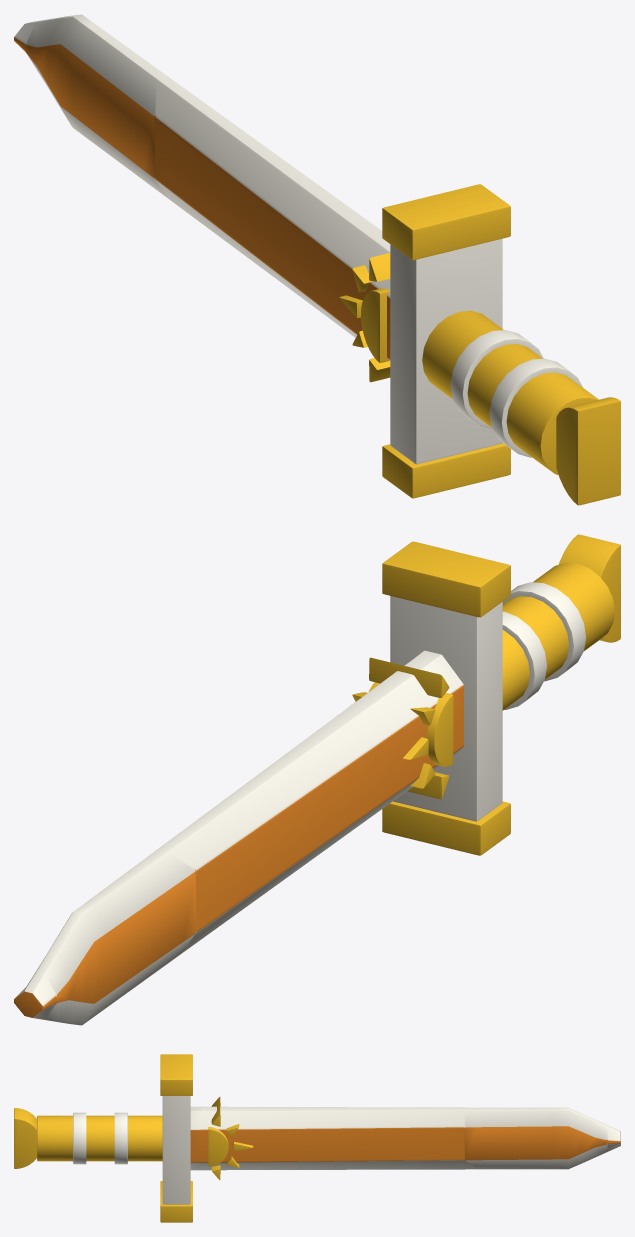
Rendered from Sword_DaybreakLongsword.glb.
3 renders of one model, top to bottom at view 1: azimuth 30°, elevation 25°; view 2: azimuth 150°, elevation 25°; view 3: azimuth 270°, elevation 25°, orthographic. The views are drawn at different scales.
Visible parts, largest first — view 1: Sword_DaybreakLongsword; view 2: Sword_DaybreakLongsword; view 3: Sword_DaybreakLongsword.
Boxes of the visible parts, x1,y1,x2,y2 form: Sword_DaybreakLongsword: [14, 14, 620, 505]; Sword_DaybreakLongsword: [14, 534, 620, 1025]; Sword_DaybreakLongsword: [14, 1054, 620, 1222].
Size of the model in its own units: 0.1 by 0.26 by 1.
Materials: 1 (1 with a texture image).
